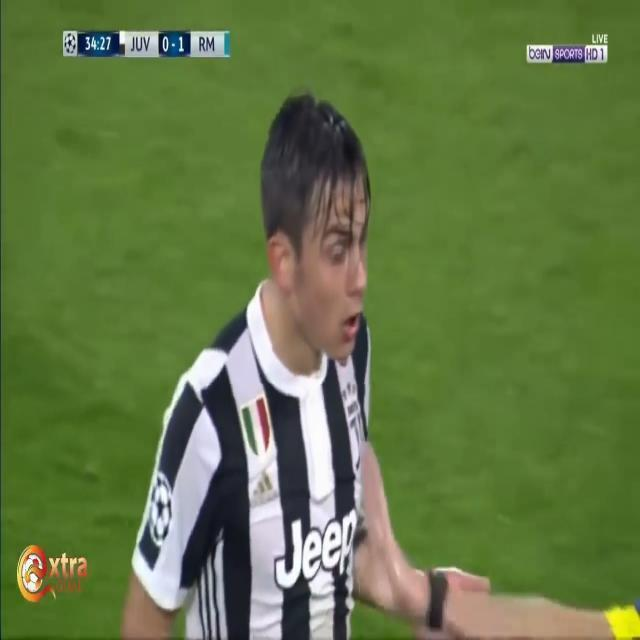player: (123, 49, 466, 622)
